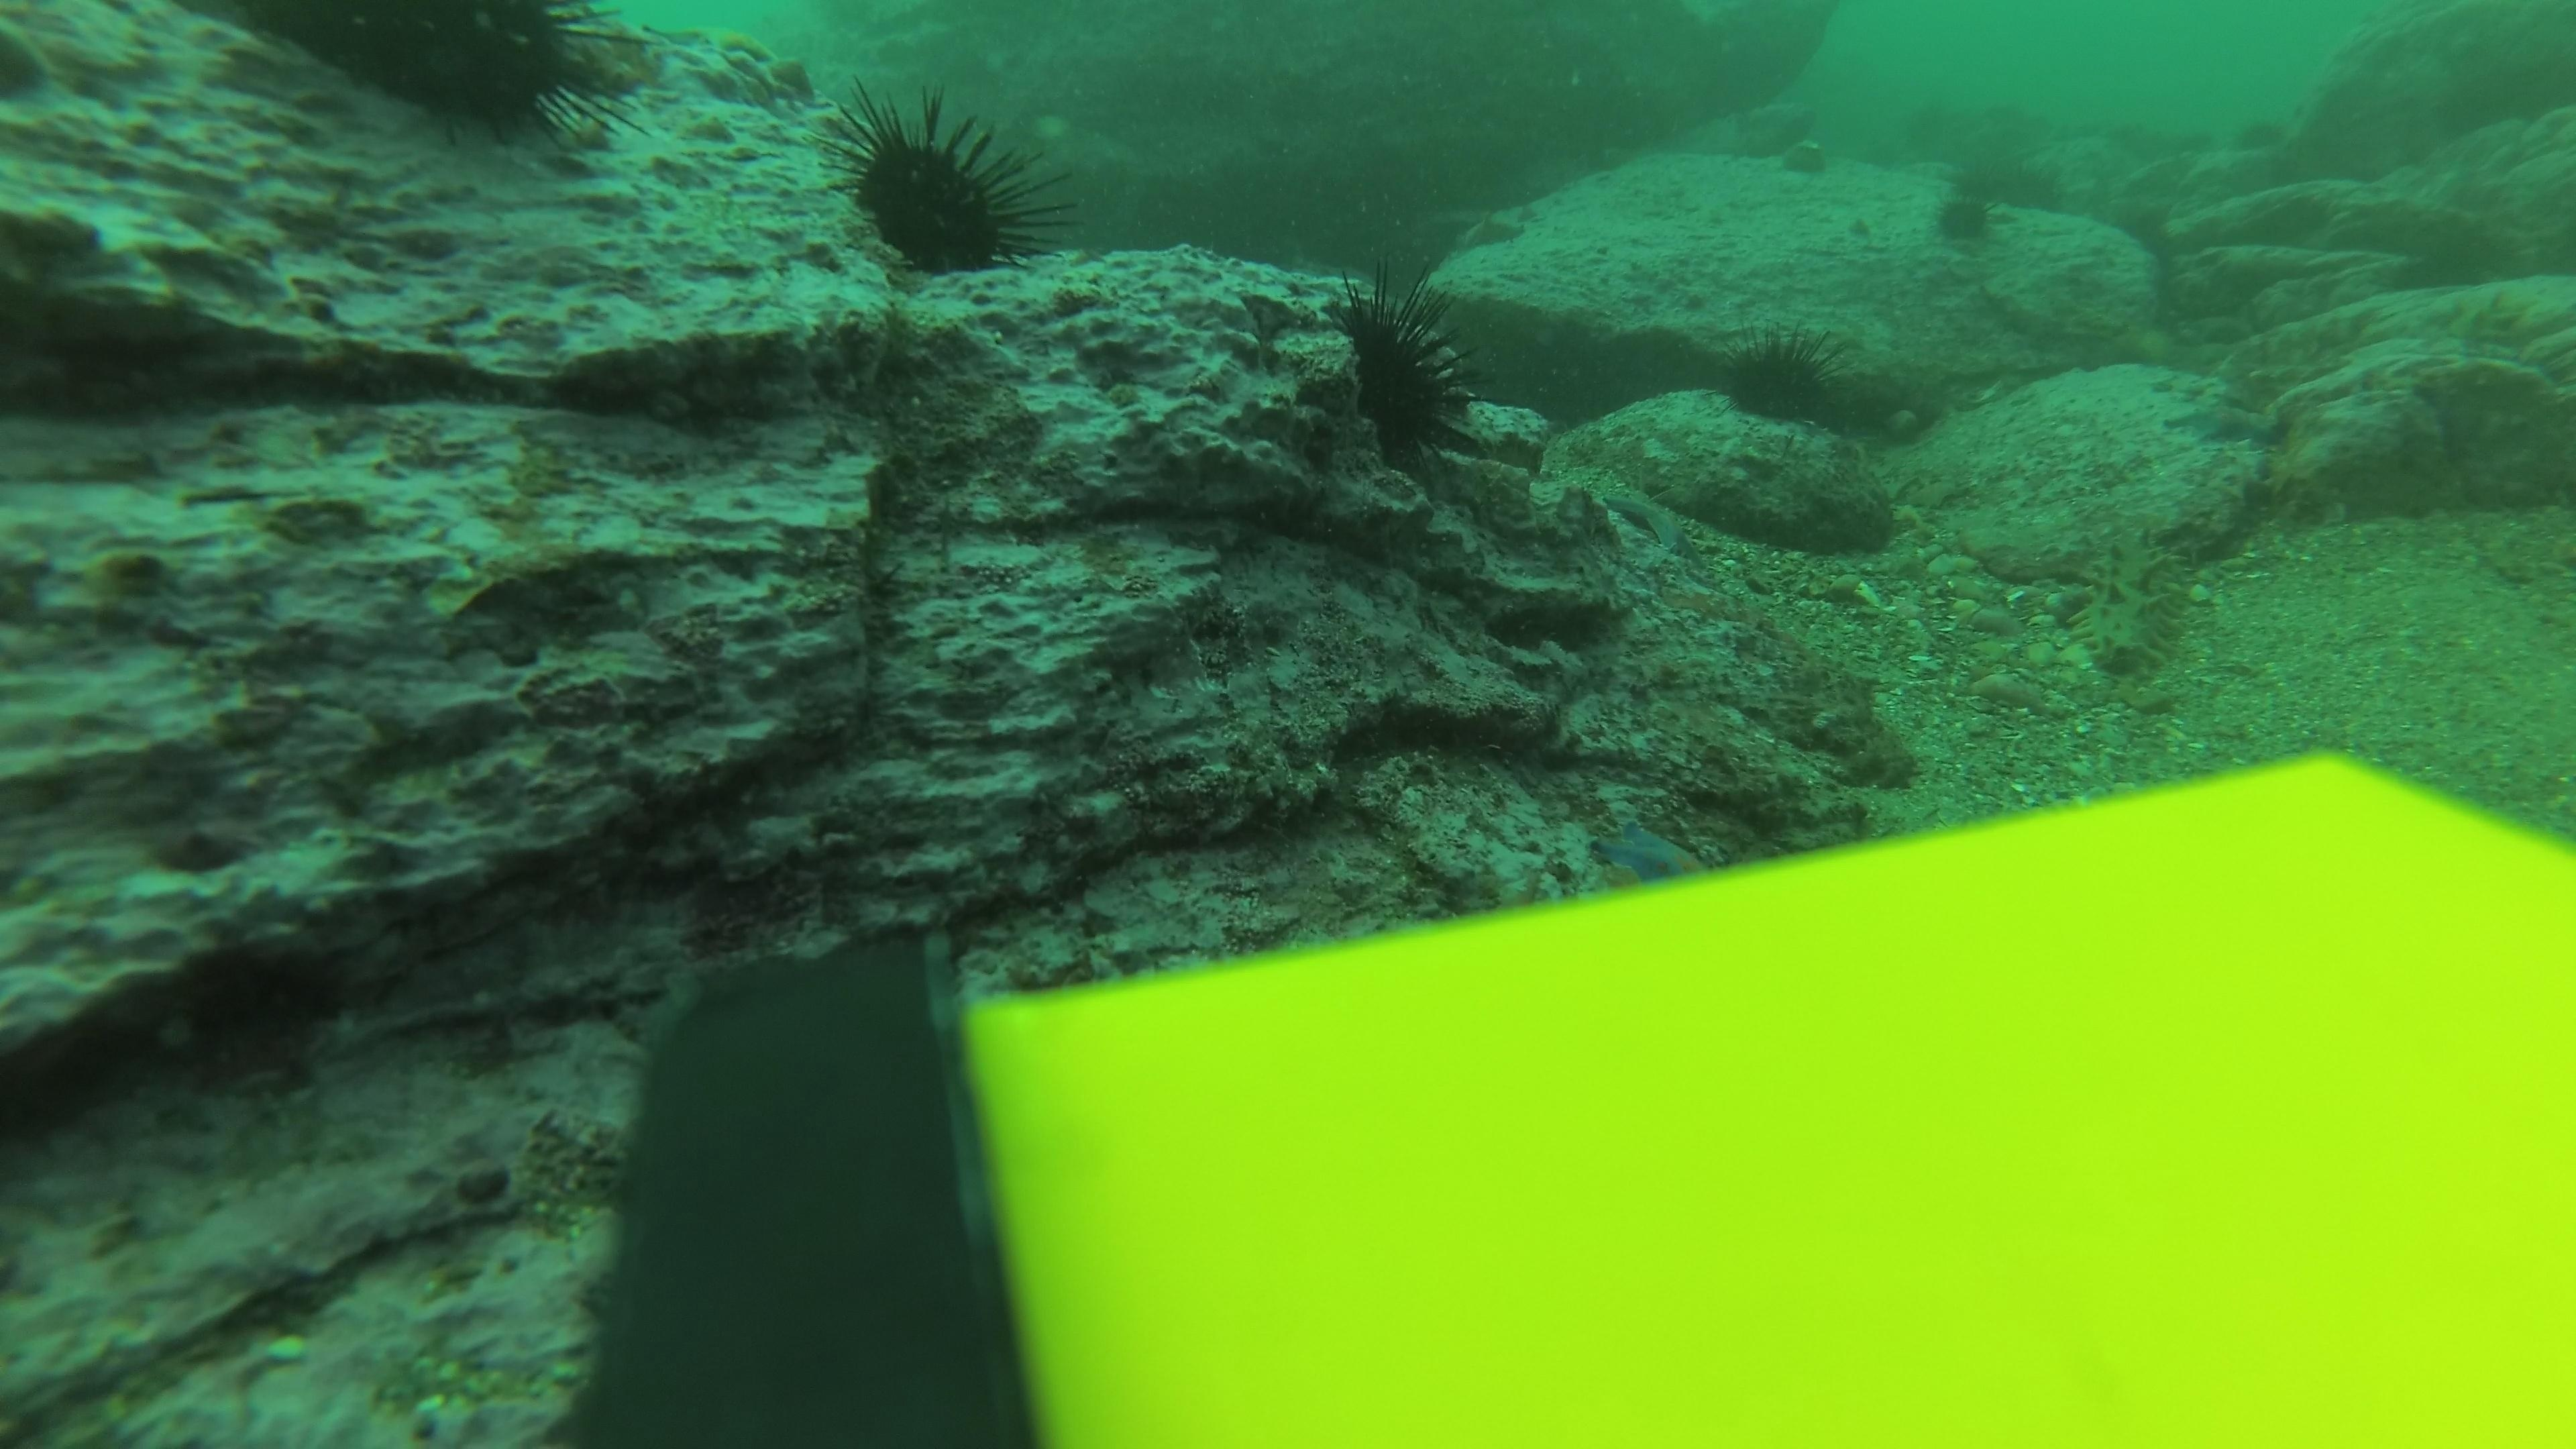echinus: (232, 4, 630, 156), (817, 81, 1065, 283), (1320, 274, 1486, 479), (1714, 327, 1852, 435), (2208, 97, 2293, 175), (1925, 177, 2010, 253), (1932, 147, 2017, 223), (1980, 154, 2065, 230)
holothurian: (2070, 522, 2203, 688)
starfish: (621, 18, 821, 103), (1592, 472, 1716, 566), (1585, 810, 1714, 881), (2158, 389, 2284, 451), (1453, 200, 1536, 255)
